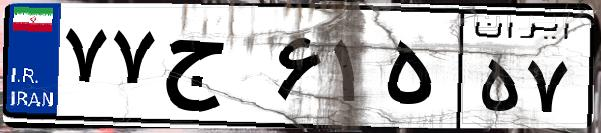1: (330, 28, 385, 110)
5: (385, 28, 445, 110), (475, 38, 525, 113)
6: (270, 28, 330, 110)
7: (57, 26, 110, 100), (525, 38, 570, 115), (110, 28, 158, 98)
ج: (158, 20, 270, 120)
